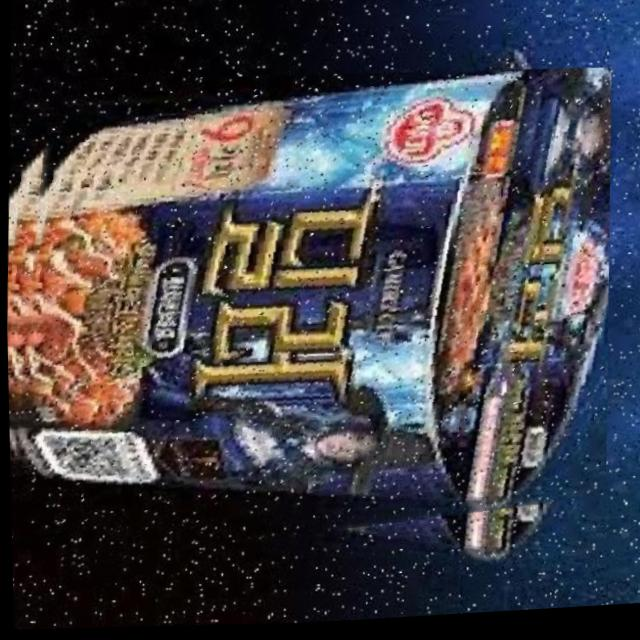Miscellaneous: (2, 53, 620, 592)
